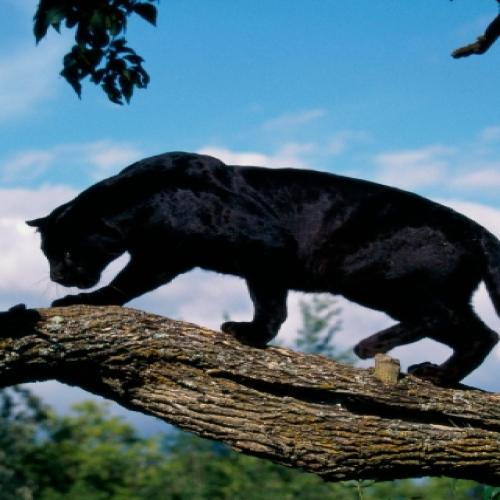panther-endangered: (24, 149, 492, 388)
